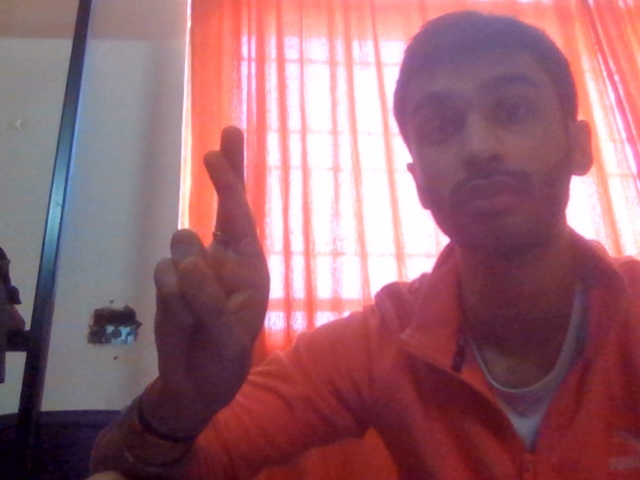R: (110, 127, 302, 425)
